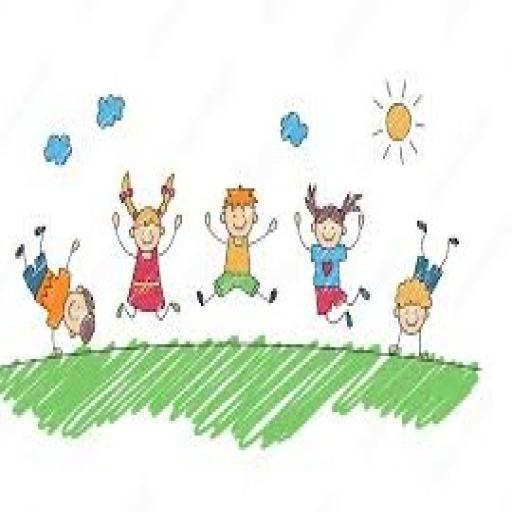person: (14, 215, 98, 364), (111, 163, 184, 331), (291, 180, 371, 330), (192, 186, 282, 312), (387, 217, 465, 360)
